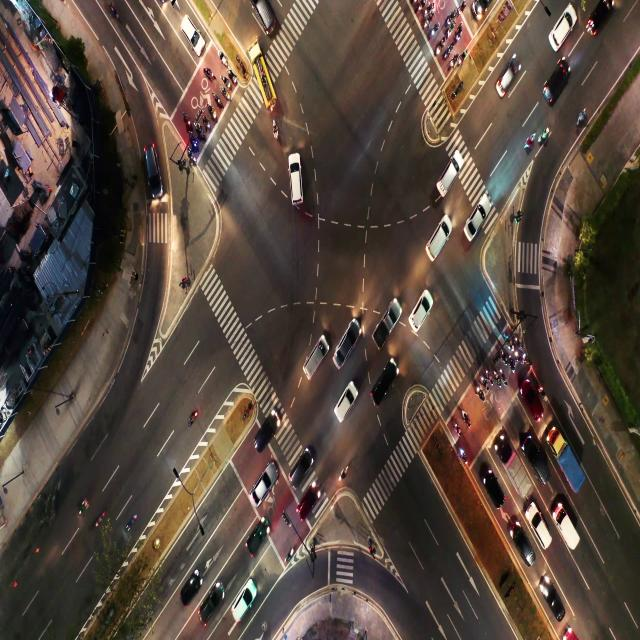bus: (260, 70, 268, 87)
car: (411, 300, 427, 328), (202, 594, 216, 625), (260, 418, 276, 445), (428, 228, 441, 259), (548, 588, 562, 616), (375, 374, 390, 399), (183, 18, 197, 44), (337, 396, 350, 423), (290, 170, 302, 199), (440, 166, 452, 193), (236, 592, 250, 615), (260, 4, 274, 26), (487, 481, 500, 504), (146, 151, 156, 180), (548, 77, 559, 103), (338, 341, 350, 364), (255, 478, 268, 499), (186, 573, 196, 600), (470, 206, 480, 233), (248, 534, 260, 556), (292, 461, 304, 483), (592, 9, 604, 31), (308, 350, 320, 371), (300, 496, 312, 514), (503, 70, 515, 87), (532, 453, 542, 473), (554, 24, 565, 41), (538, 520, 545, 540), (520, 538, 527, 556), (532, 395, 538, 413)
motorcycle: (91, 506, 108, 530), (124, 511, 138, 533), (523, 132, 536, 149), (78, 498, 88, 516), (339, 462, 349, 480), (540, 126, 551, 142), (578, 106, 584, 130), (189, 410, 199, 424), (286, 546, 292, 565), (272, 121, 278, 138), (444, 47, 452, 57), (223, 78, 230, 88), (457, 28, 463, 39), (220, 57, 226, 67), (462, 412, 468, 422), (423, 19, 428, 30), (500, 351, 506, 360), (184, 116, 189, 126), (485, 369, 490, 379), (206, 68, 212, 76), (216, 95, 220, 106), (448, 27, 452, 38), (431, 28, 435, 39), (453, 423, 458, 431), (461, 53, 465, 63), (415, 6, 421, 12), (210, 110, 215, 117), (192, 139, 196, 147), (479, 389, 483, 397), (523, 355, 527, 363), (540, 390, 544, 398), (437, 46, 441, 54), (425, 8, 430, 14), (190, 155, 194, 162), (507, 339, 511, 346), (510, 357, 513, 366), (112, 10, 116, 16), (198, 128, 202, 134), (224, 92, 228, 98), (230, 74, 234, 80), (501, 372, 504, 380), (447, 18, 451, 24), (459, 8, 463, 14), (494, 369, 497, 376), (205, 120, 208, 126), (481, 377, 484, 383), (516, 353, 519, 359), (450, 62, 453, 68), (461, 452, 463, 458), (515, 337, 517, 342)
truck: (560, 449, 571, 477), (377, 320, 389, 345), (511, 454, 520, 483), (564, 518, 572, 536)
